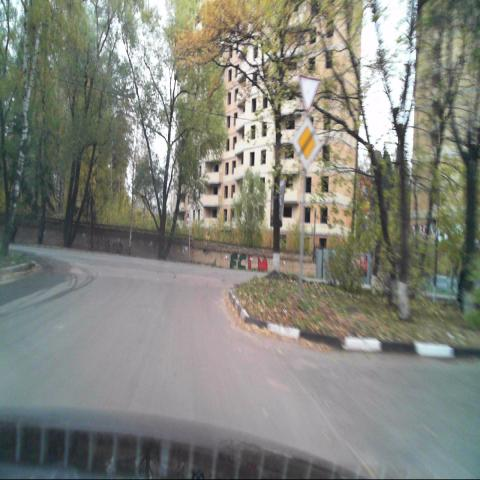2_4: (298, 74, 321, 115)
